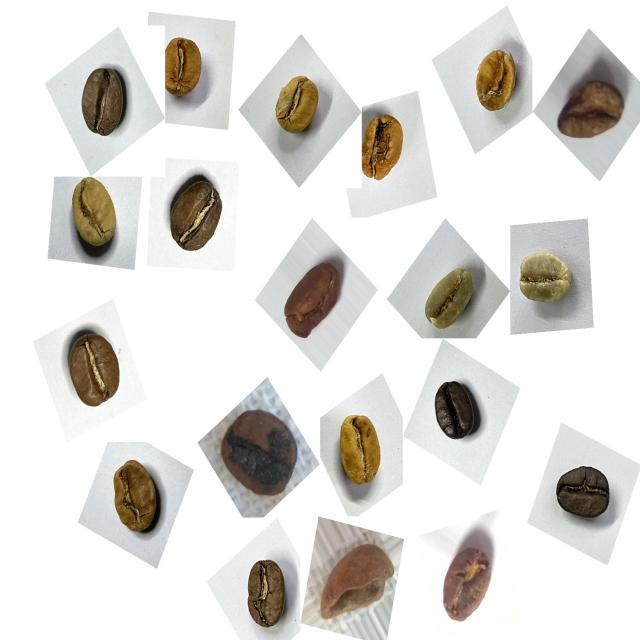bad: (214, 396, 306, 508), (315, 530, 401, 630), (433, 522, 504, 632), (551, 60, 633, 154), (276, 254, 351, 350)
dark: (548, 452, 621, 534), (423, 371, 489, 454)
green: (414, 257, 486, 341), (508, 240, 581, 320)
light: (328, 402, 394, 496), (60, 174, 128, 264), (349, 105, 415, 194), (462, 38, 527, 124), (264, 64, 328, 147), (152, 28, 212, 109)
medium: (53, 323, 134, 420), (158, 173, 235, 269), (98, 450, 173, 546), (68, 59, 137, 149), (232, 550, 300, 640)
